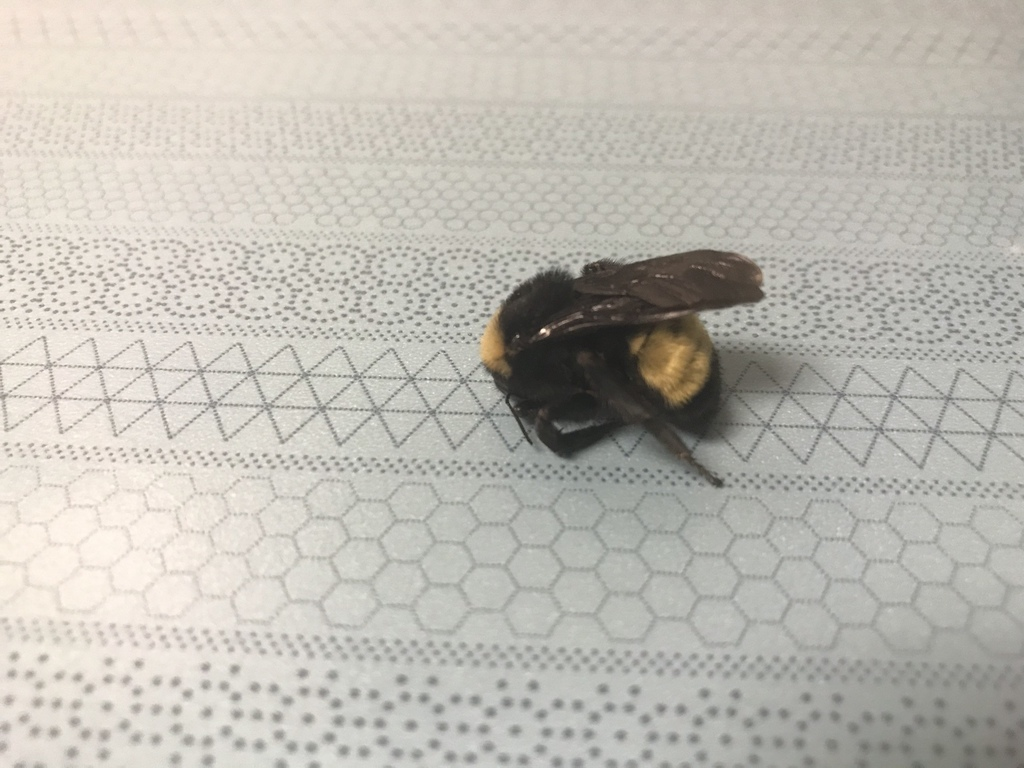bumblebee: (476, 246, 766, 496)
